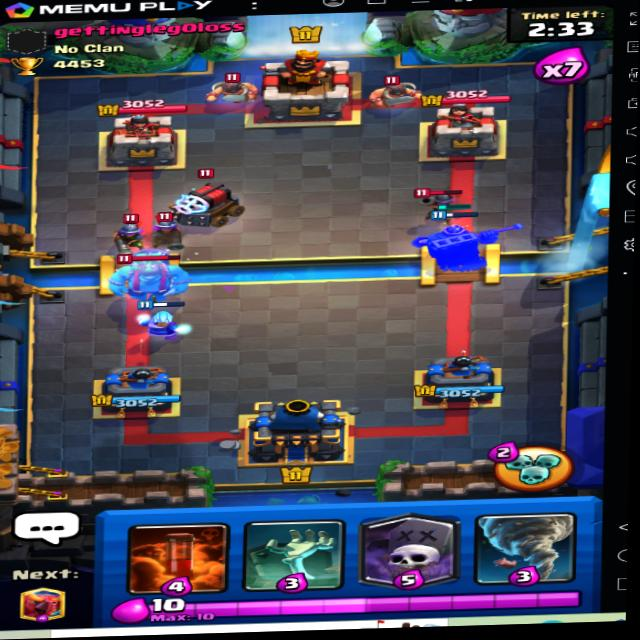electro-barbarians: (371, 72, 421, 112), (208, 69, 260, 104)
goblin-giant: (113, 239, 197, 302)
musketeer: (415, 186, 472, 232), (106, 209, 166, 250), (150, 206, 200, 251)
sparky: (172, 166, 260, 229)
